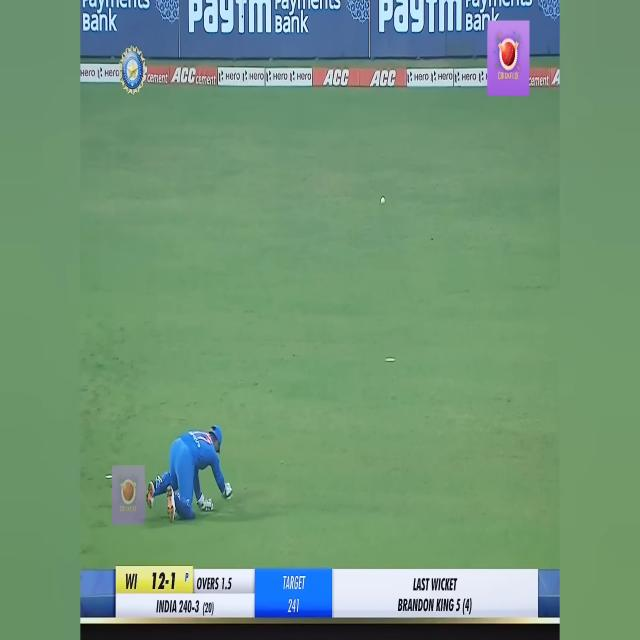partially_visible: (378, 0, 462, 36), (186, 0, 272, 35)
